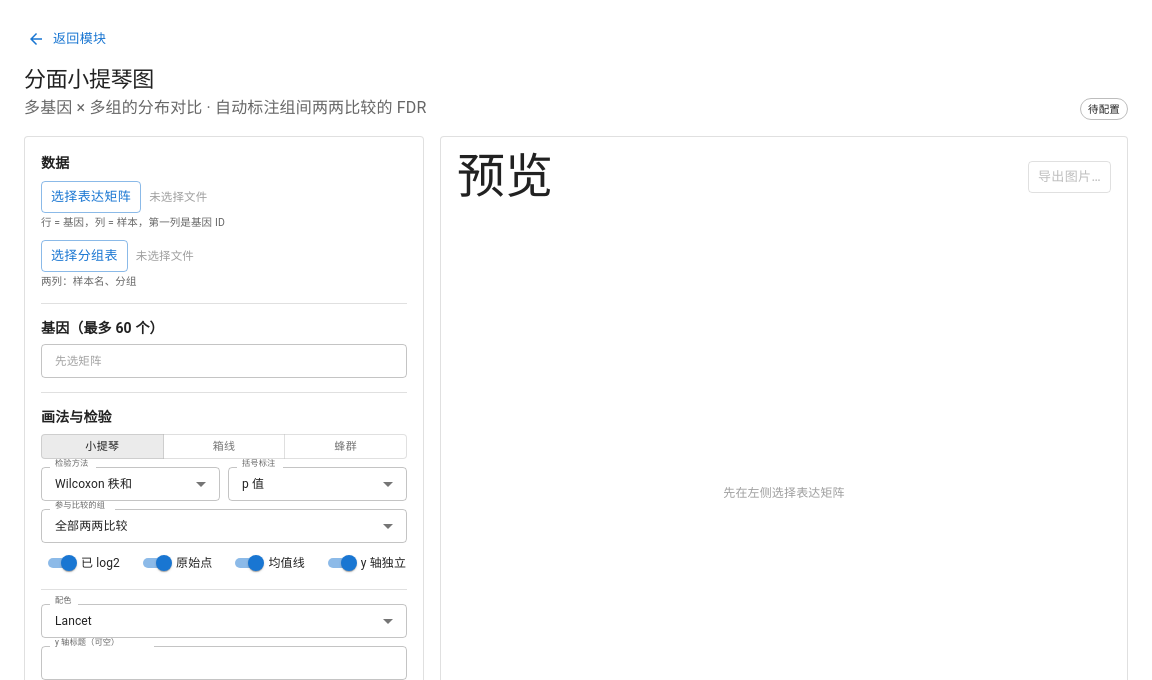
Test: ViolinPage 空态提示 › 只选了矩阵时，提示指向还缺的分组表
Step 1. Click the button "选择表达矩阵" → (91, 197), box [41,181,141,213]
(page scrolled)
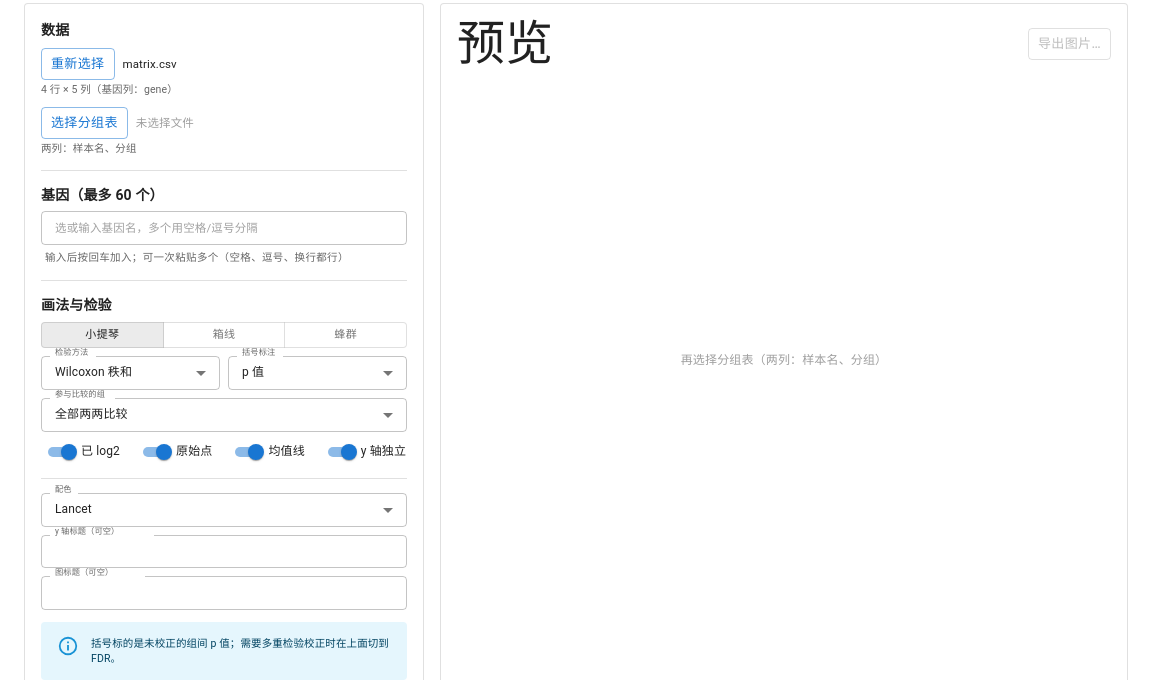
Check: the text "4 行 × 5 列（基因列：gene）" is shown, box [41,83,178,96]
Check: the text "再选择分组表（两列：样本名、分组）" is shown, box [681,353,887,367]
